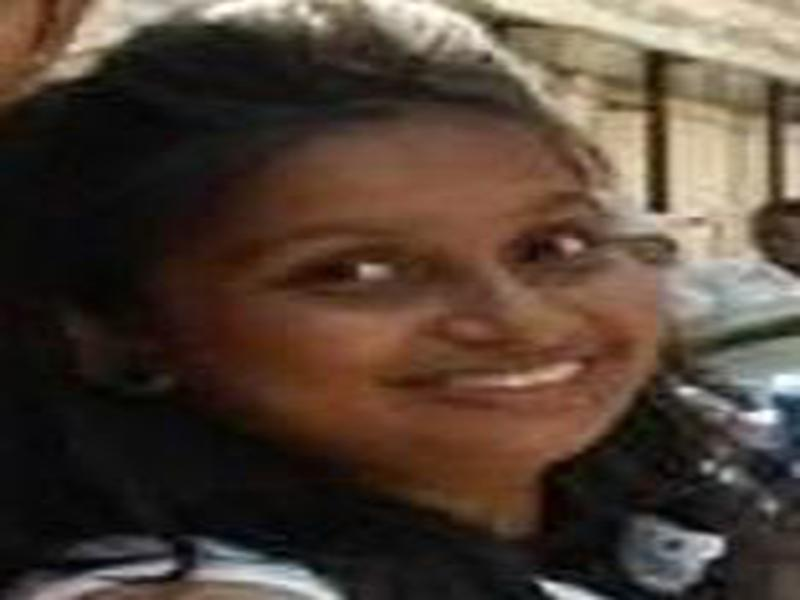without_mask: (185, 129, 661, 463)
